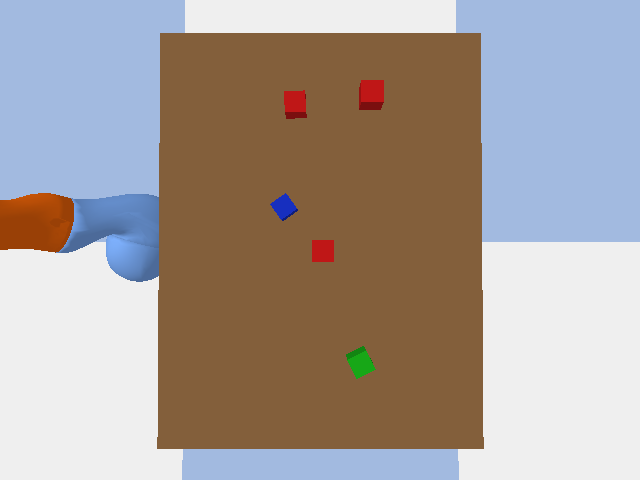blue_obj: (270, 193, 297, 220)
green_obj: (346, 346, 375, 378)
red_obj: (359, 80, 383, 109), (284, 90, 306, 118), (312, 240, 333, 261)
